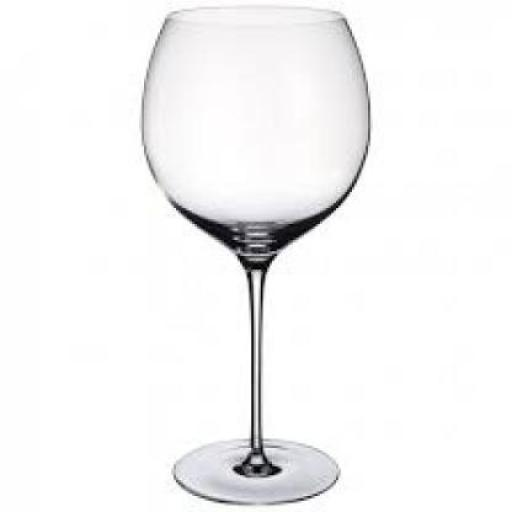glass: (139, 7, 371, 503)
